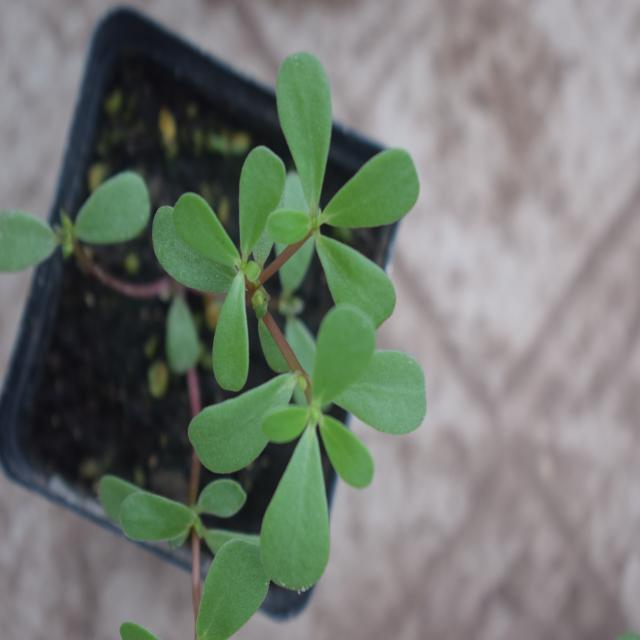purslane: (179, 66, 434, 598)
